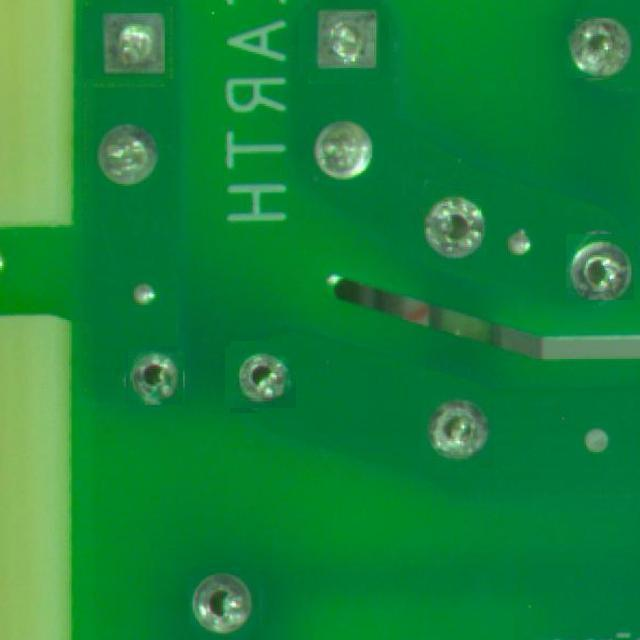lack_of_part: (88, 2, 170, 84), (304, 0, 385, 79), (314, 111, 380, 200), (422, 396, 494, 468), (189, 569, 259, 640), (424, 186, 488, 260), (566, 14, 634, 82), (566, 234, 634, 300), (228, 344, 294, 411), (95, 126, 163, 190), (127, 347, 184, 405)
